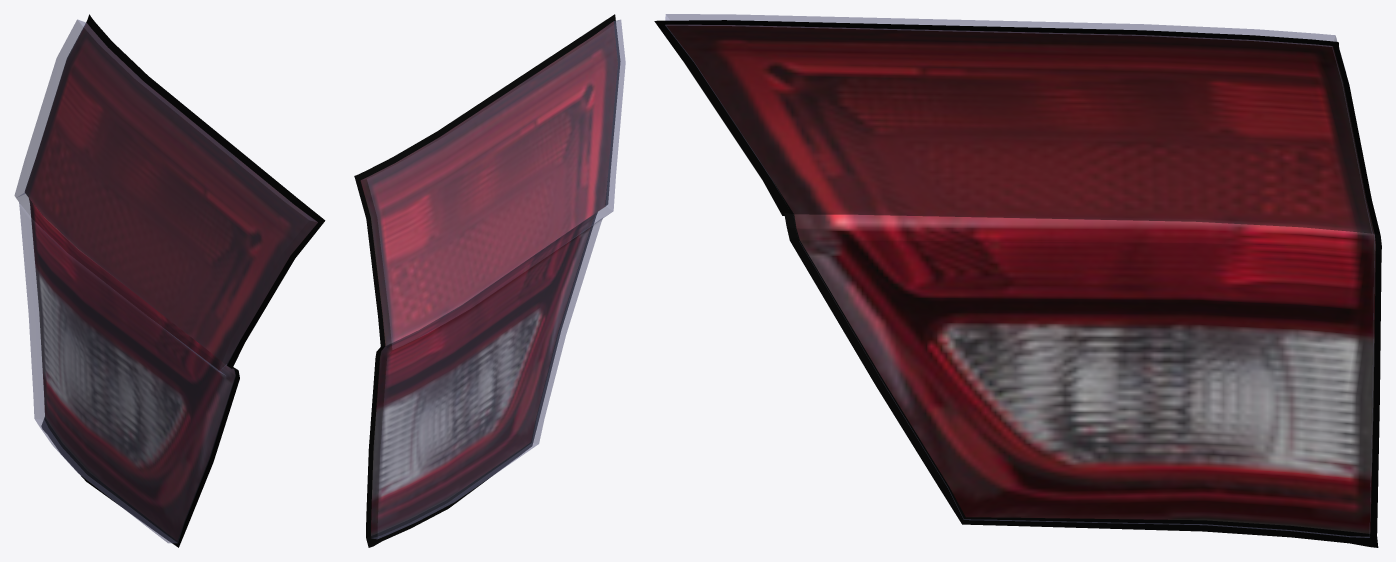
3 renders of one model, left to right at view 1: azimuth 30°, elevation 25°; view 2: azimuth 150°, elevation 25°; view 3: azimuth 270°, elevation 25°, orthographic. The views are drawn at different scales.
Parts seen in each view (by area): view 1: J733_541D_L_J733_541D_L_1_DTaSI, J733_541D_L_J733_541D_L_2_N, J733_541D_L_3_D_J733_541D_L; view 2: J733_541D_L_J733_541D_L_1_DTaSI, J733_541D_L_J733_541D_L_2_N, J733_541D_L_3_D_J733_541D_L; view 3: J733_541D_L_J733_541D_L_2_N, J733_541D_L_3_D_J733_541D_L, J733_541D_L_J733_541D_L_1_DTaSI.
Part boxes in pixels (box(x1,y1,x2,y2)): J733_541D_L_J733_541D_L_1_DTaSI: box(14, 19, 317, 543); J733_541D_L_J733_541D_L_2_N: box(25, 23, 317, 540); J733_541D_L_3_D_J733_541D_L: box(41, 14, 325, 547); J733_541D_L_J733_541D_L_1_DTaSI: box(361, 19, 625, 539); J733_541D_L_J733_541D_L_2_N: box(360, 21, 617, 535); J733_541D_L_3_D_J733_541D_L: box(354, 14, 620, 547); J733_541D_L_J733_541D_L_2_N: box(666, 24, 1375, 533); J733_541D_L_3_D_J733_541D_L: box(654, 20, 1381, 547); J733_541D_L_J733_541D_L_1_DTaSI: box(665, 14, 1374, 537).
Bounding box in the file's own units: 4.95 × 22.62 × 28.29.
